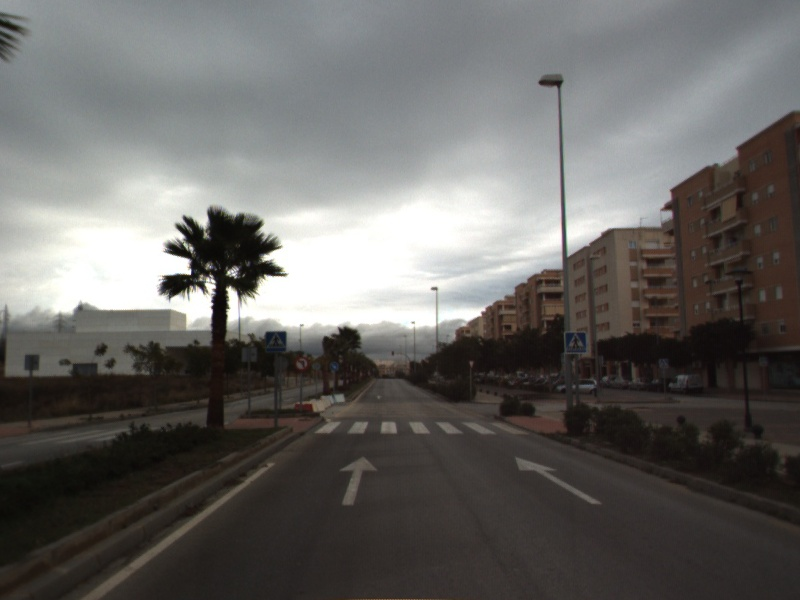STRAIGHT: (514, 455, 604, 506), (337, 454, 380, 507)
